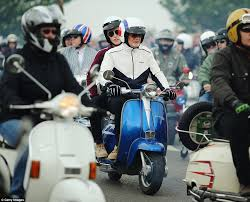helmet: (18, 4, 70, 54), (117, 16, 150, 50)
